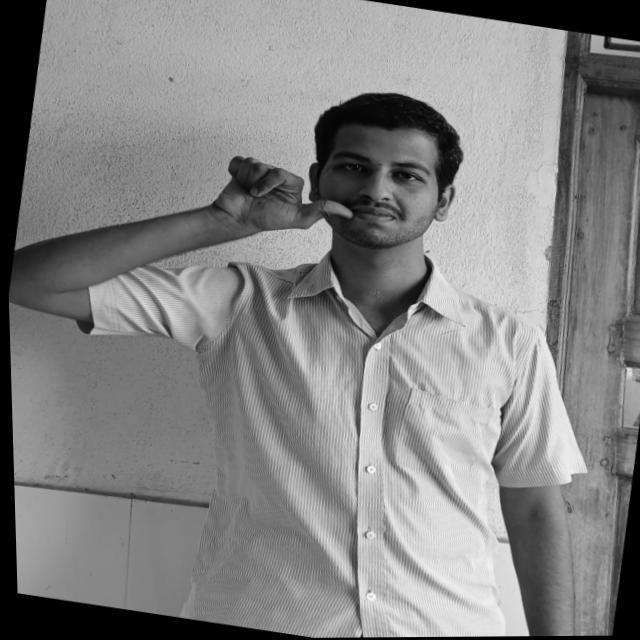Drink: (216, 151, 362, 261)
